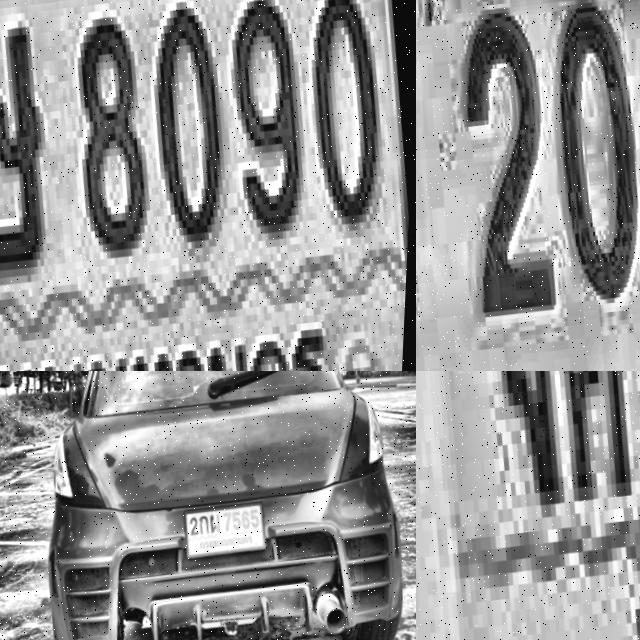license-plate: (0, 0, 416, 371), (416, 0, 640, 371), (416, 371, 640, 640), (183, 497, 274, 559)
